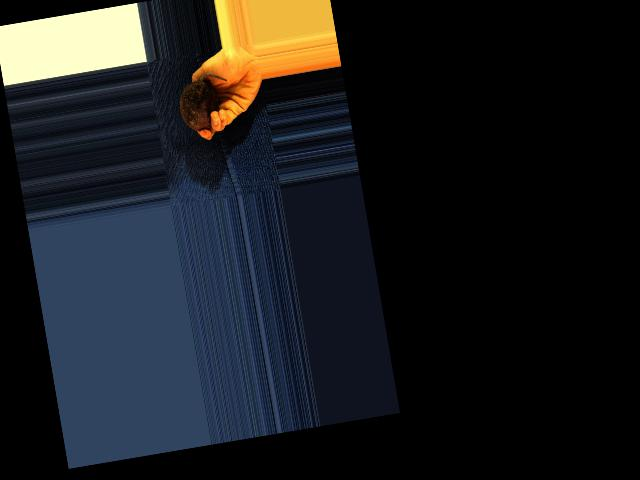beet: (175, 71, 235, 133)
